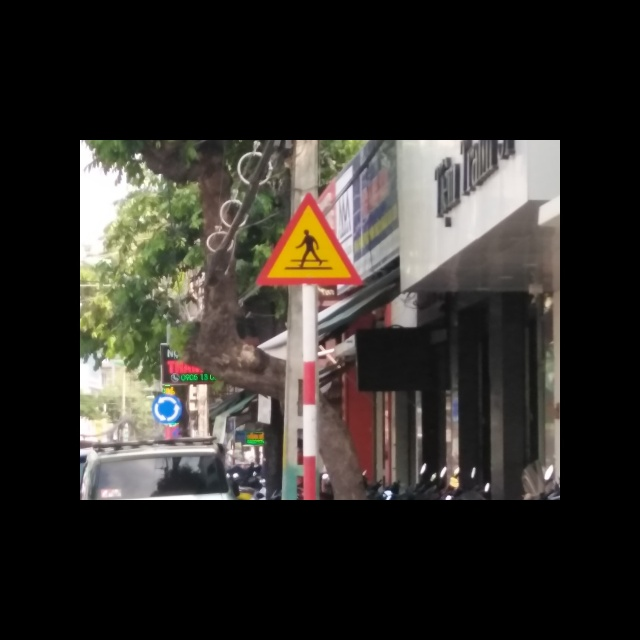Nơi giao nhau chạy theo vòng xuyến: (151, 393, 184, 425)
Đường người đi bộ sang đường: (255, 190, 365, 288)
